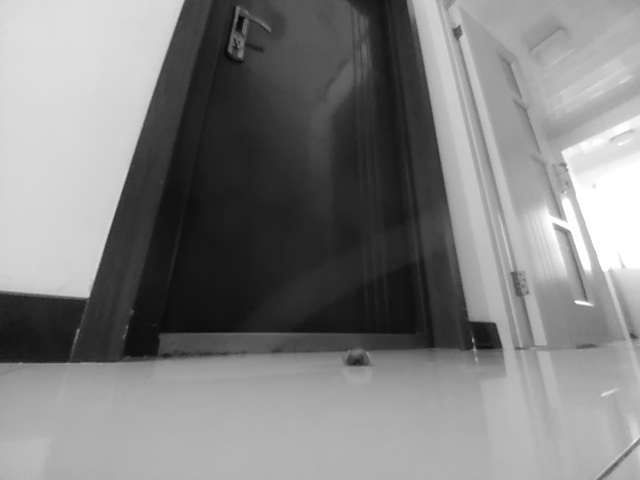pet feces: (344, 346, 373, 367)
